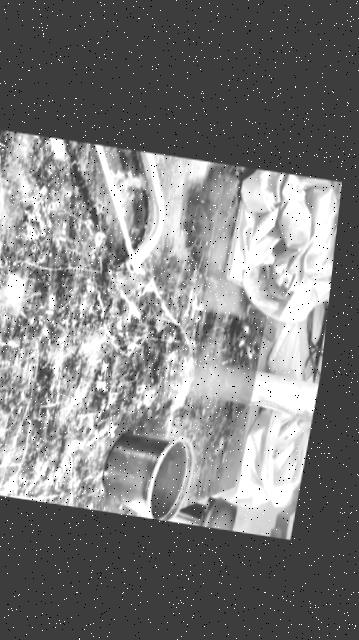pot: (95, 425, 196, 524)
